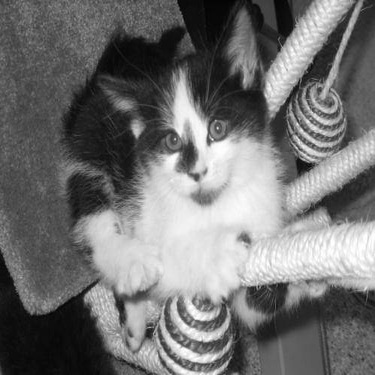cat: (61, 3, 334, 356)
